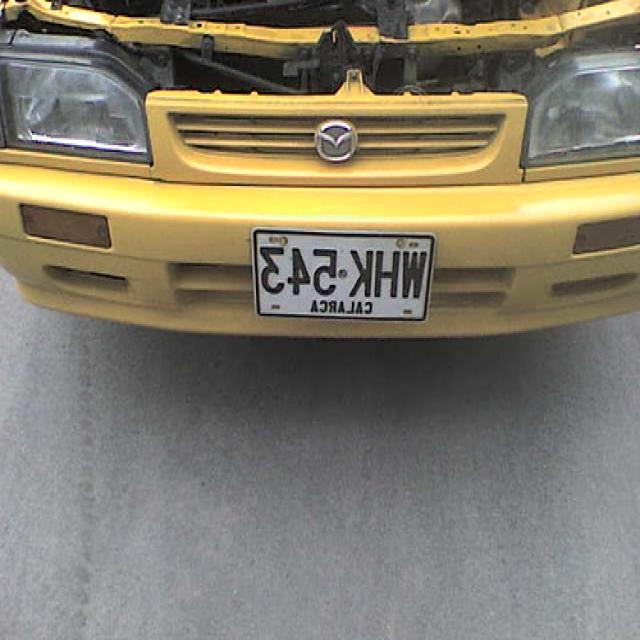placas: (252, 238, 427, 300)
